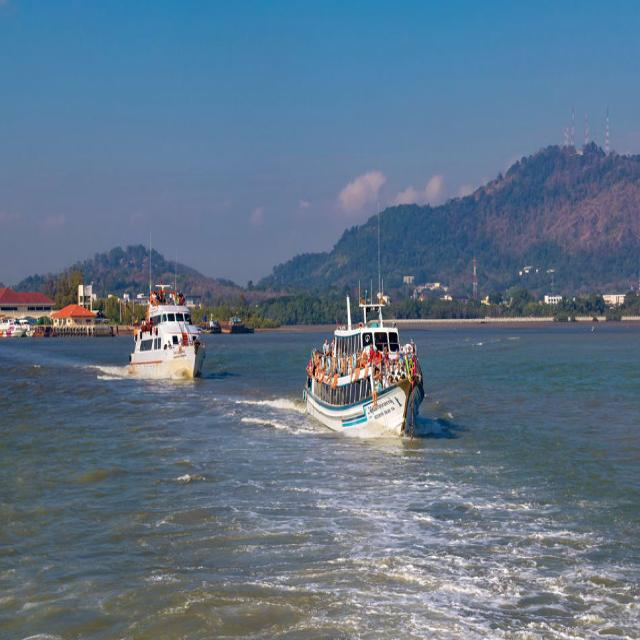houseboat: (291, 288, 416, 460), (122, 268, 208, 380)
